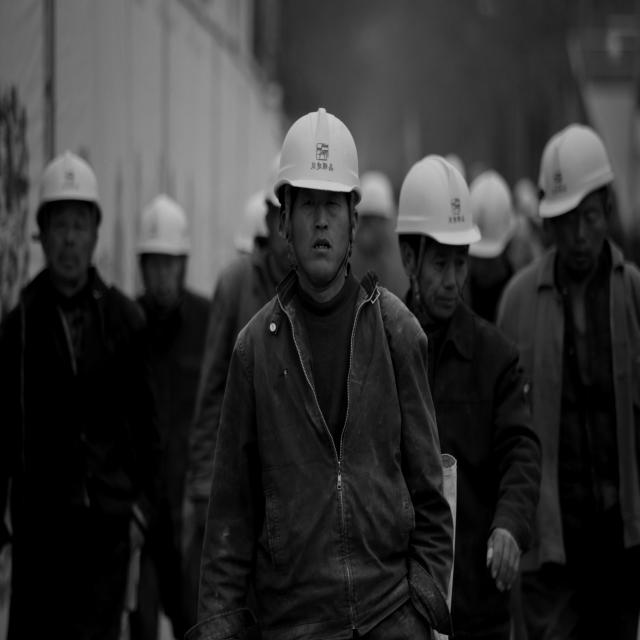face_nomask: (289, 191, 352, 286), (417, 236, 472, 323), (559, 188, 611, 280), (42, 201, 98, 274), (146, 251, 187, 312)
hand_noglove: (477, 522, 519, 593)
head_helmet: (269, 100, 372, 206), (392, 144, 478, 245), (534, 116, 620, 217), (459, 164, 521, 259), (34, 140, 101, 224), (128, 177, 195, 260)
person: (203, 81, 444, 635), (3, 117, 124, 630), (513, 99, 636, 601), (406, 128, 514, 628), (133, 144, 193, 607)
